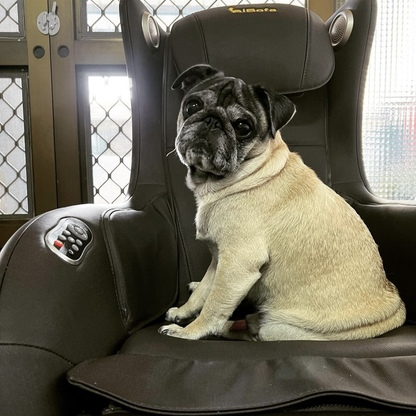Pug: (151, 59, 409, 345)
